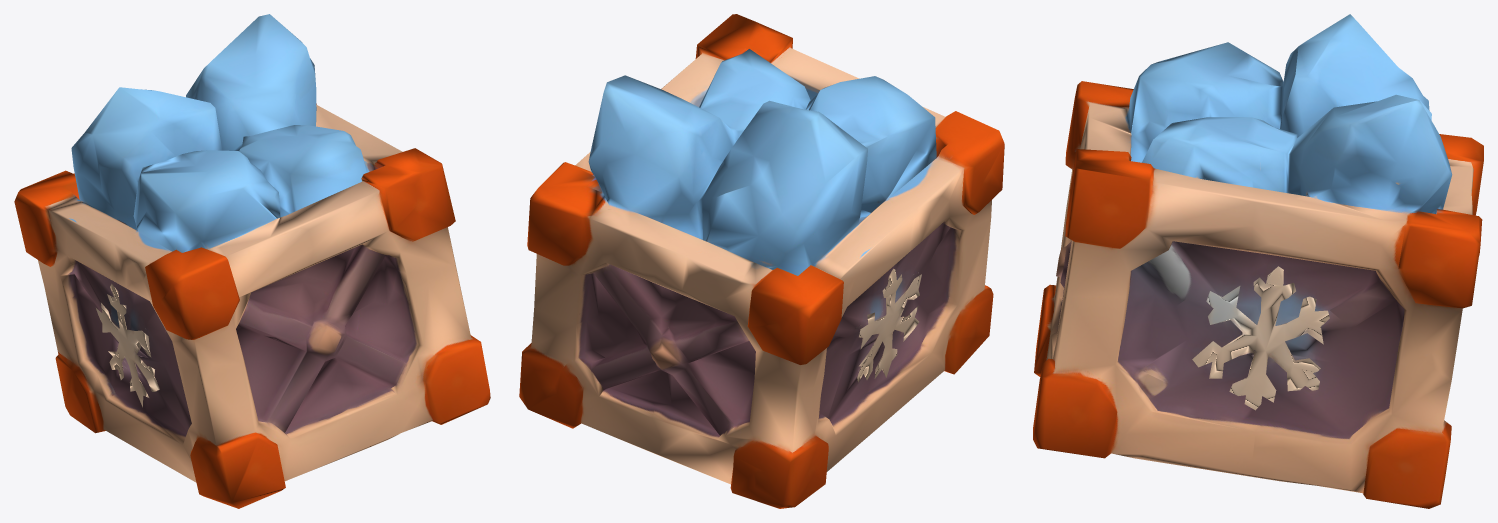
File: caja_hielo.glb
The picture shows the model from 3 angles, left to right: view 1: azimuth 30°, elevation 25°; view 2: azimuth 150°, elevation 25°; view 3: azimuth 270°, elevation 25°; orthographic projection. The views are drawn at different scales.
Visible parts, largest first — view 1: tripo_node_f770f876-40d8-4f24-bb33-f2a038fa6469; view 2: tripo_node_f770f876-40d8-4f24-bb33-f2a038fa6469; view 3: tripo_node_f770f876-40d8-4f24-bb33-f2a038fa6469.
Part boxes in pixels (bbox=[...]): tripo_node_f770f876-40d8-4f24-bb33-f2a038fa6469: bbox=[14, 14, 490, 508]; tripo_node_f770f876-40d8-4f24-bb33-f2a038fa6469: bbox=[519, 14, 1004, 508]; tripo_node_f770f876-40d8-4f24-bb33-f2a038fa6469: bbox=[1033, 14, 1483, 508].
Bounding box in the file's own units: 0.9119 × 0.9997 × 0.996.
Materials: 1 (1 with a texture image).
